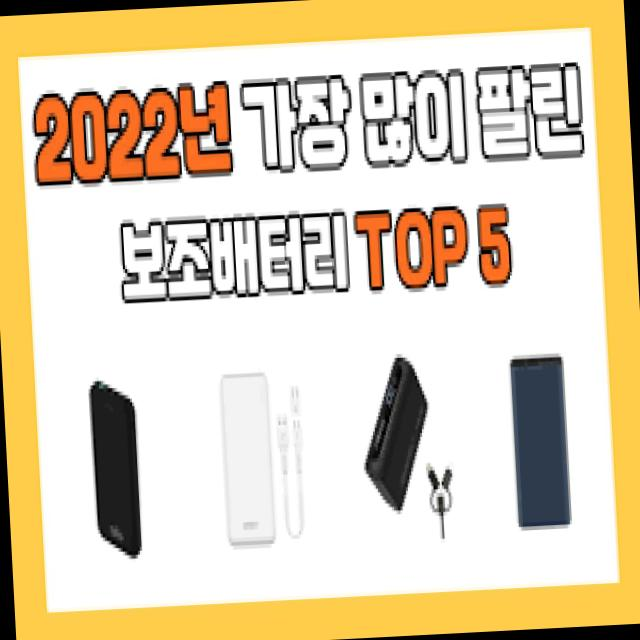power_bank: (499, 346, 582, 540), (352, 343, 436, 521), (82, 368, 152, 568), (210, 359, 278, 550)
